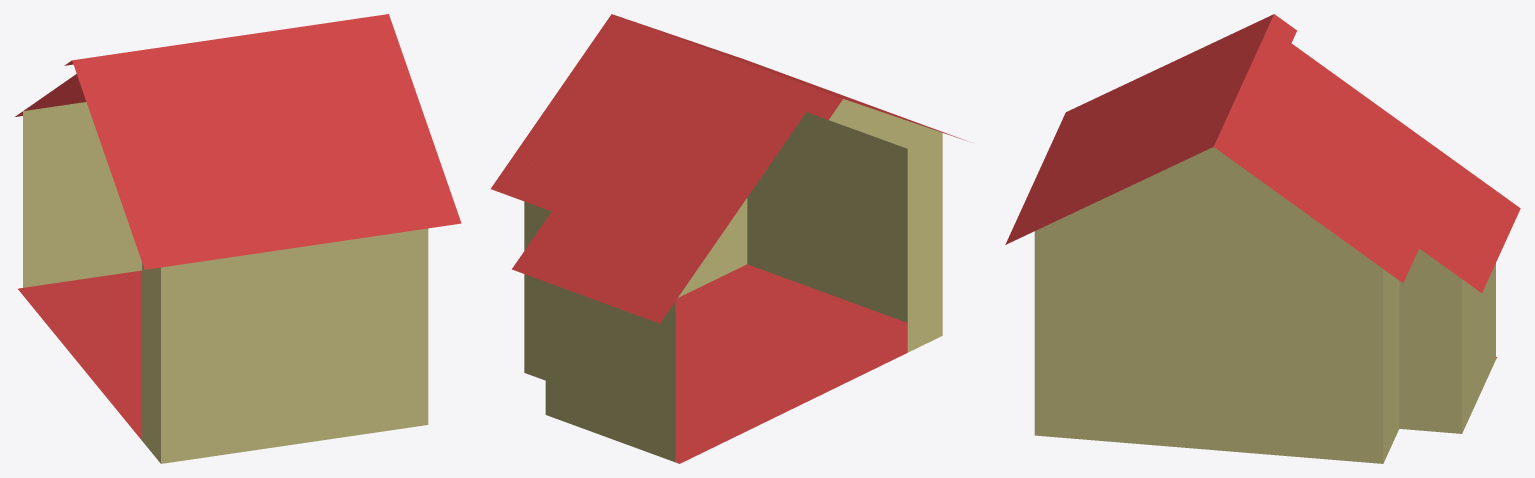
The picture shows the model from 3 angles, left to right: view 1: azimuth 30°, elevation 25°; view 2: azimuth 150°, elevation 25°; view 3: azimuth 270°, elevation 25°; orthographic projection. The views are drawn at different scales.
Bounding box in the file's own units: 11.67 × 15.39 × 10.35.
